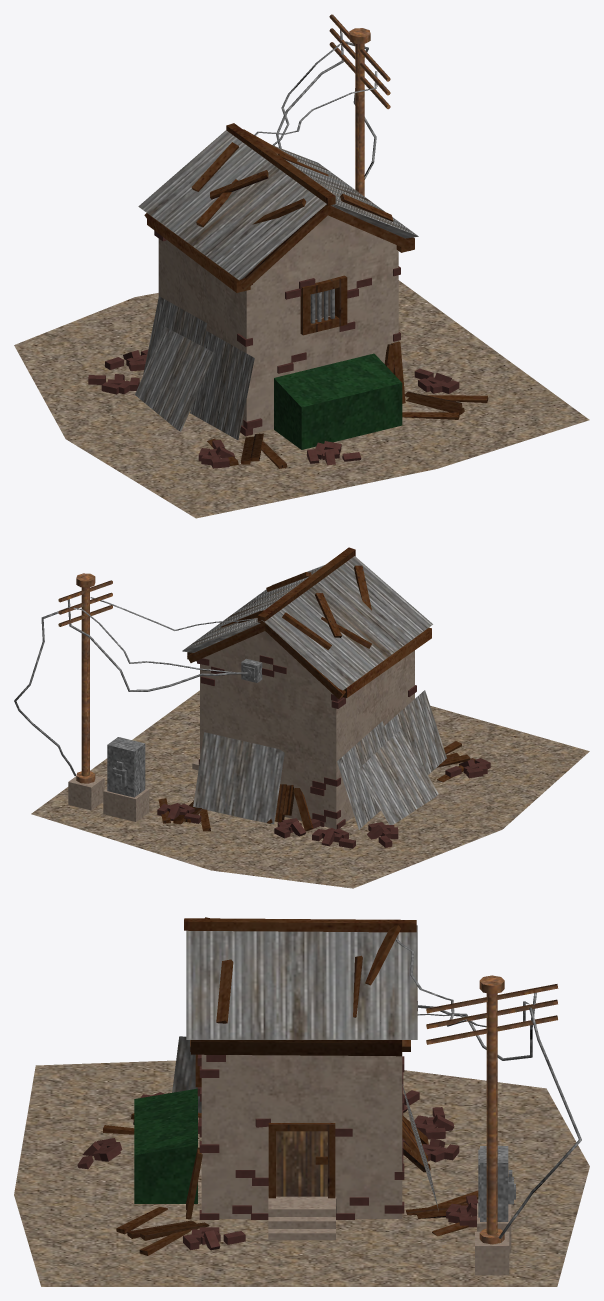
File: casa_p4.glb
3 renders of one model, top to bottom at view 1: azimuth 30°, elevation 25°; view 2: azimuth 150°, elevation 25°; view 3: azimuth 270°, elevation 25°, orthographic. The views are drawn at different scales.
Visible parts, largest first — view 1: ext; view 2: ext; view 3: ext.
Boxes of the visible parts, x1,y1,x2,y2 form: ext: [14, 14, 589, 518]; ext: [14, 547, 589, 888]; ext: [14, 917, 589, 1286].
Size of what is drawn, in the model's own units: 9.28 by 5.41 by 9.5.
Materials: 1 (1 with a texture image).
